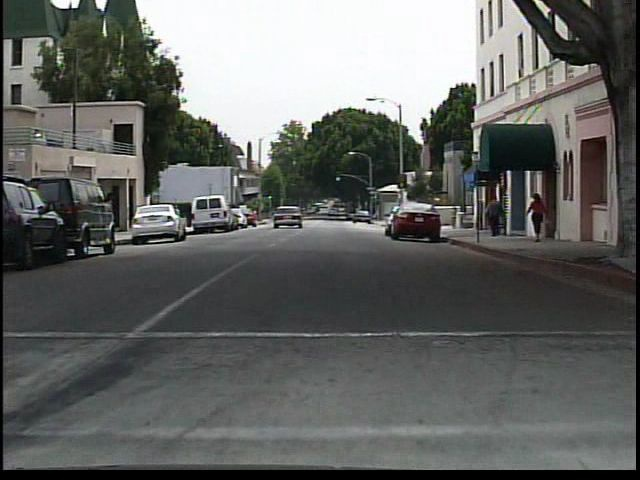person: (527, 186, 550, 243), (482, 193, 505, 240)
